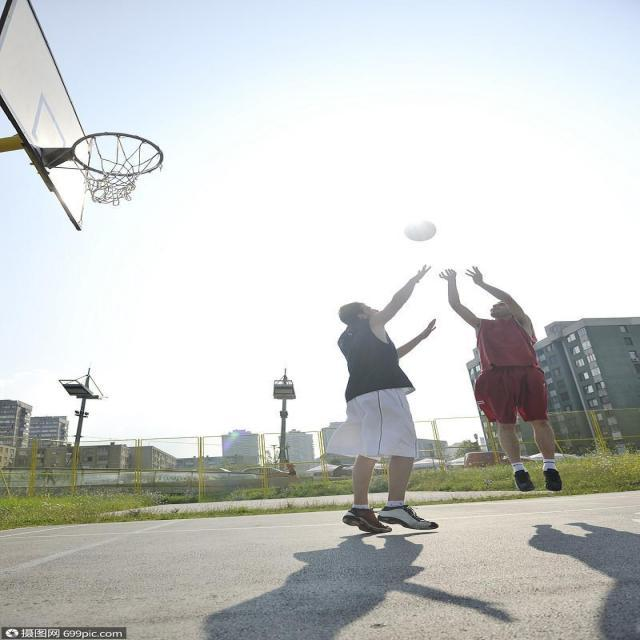rim: (406, 218, 436, 241)
